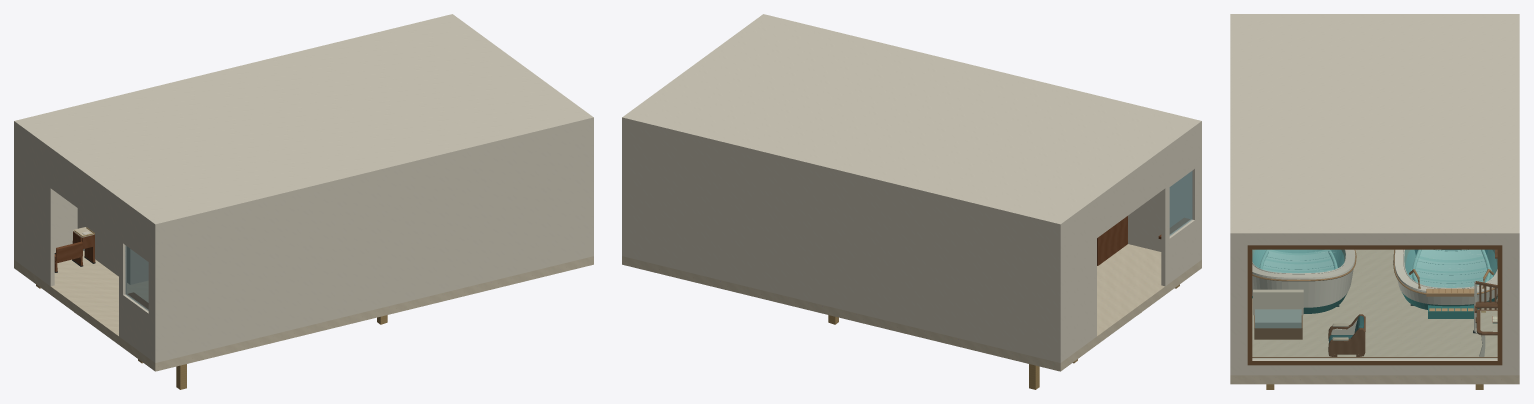
The model's file is NG530_PanoramicSuite_r001.glb.
3 views of the same model, side by side, from view 1: azimuth 30°, elevation 25°; view 2: azimuth 150°, elevation 25°; view 3: azimuth 270°, elevation 25° (orthographic). The views are drawn at different scales.
Parts seen in each view (by area): view 1: NG530_RuntimeBatch_001, NG530_RoomFloor, NG530_ScreenedStreetGlass, NG530_RuntimeBatch_013; view 2: NG530_RuntimeBatch_001, NG530_RoomFloor, NG530_ScreenedStreetGlass, NG530_RuntimeBatch_002; view 3: NG530_RuntimeBatch_001, NGP_530_PrivateViewPane, NG530_RoomFloor, NG530_ReservedRestSupport_02__Hollow continuous basin shell , NG530_ReservedRestSupport_01__WaterSurface_VisualOnly, NG530_ReservedRestSupport_01__Contoured broad immersed rest , NG530_ReservedRestSupport_01__Hollow continuous basin shell , NG530_ReservedRestSupport_02__WaterSurface_VisualOnly, NGP_530_Frame_Sill, NG530_ReservedRestSupport_02__Contoured broad immersed rest , NGP_530_Frame_Head, NGP_530_ViewSeat_Back (+10 smaller).
Part boxes in pixels (<box>): NG530_RuntimeBatch_001: <box>14,14,593,362</box>; NG530_RoomFloor: <box>14,250,593,371</box>; NG530_ScreenedStreetGlass: <box>125,245,148,310</box>; NG530_RuntimeBatch_013: <box>54,231,95,271</box>; NG530_RuntimeBatch_001: <box>622,14,1201,362</box>; NG530_RoomFloor: <box>622,244,1201,371</box>; NG530_ScreenedStreetGlass: <box>1169,171,1192,235</box>; NG530_RuntimeBatch_002: <box>1097,216,1190,265</box>; NG530_RuntimeBatch_001: <box>1230,14,1519,375</box>; NGP_530_PrivateViewPane: <box>1252,250,1497,358</box>; NG530_RoomFloor: <box>1230,249,1519,384</box>; NG530_ReservedRestSupport_02__Hollow continuous basin shell : <box>1252,249,1355,313</box>; NG530_ReservedRestSupport_01__WaterSurface_VisualOnly: <box>1406,250,1496,287</box>; NG530_ReservedRestSupport_01__Contoured broad immersed rest : <box>1412,249,1490,287</box>; NG530_ReservedRestSupport_01__Hollow continuous basin shell : <box>1394,249,1497,309</box>; NG530_ReservedRestSupport_02__WaterSurface_VisualOnly: <box>1253,250,1343,272</box>; NGP_530_Frame_Sill: <box>1247,357,1502,365</box>; NG530_ReservedRestSupport_02__Contoured broad immersed rest : <box>1263,249,1334,273</box>; NGP_530_Frame_Head: <box>1247,245,1502,249</box>; NGP_530_ViewSeat_Back: <box>1253,289,1303,315</box>.
Size of the model in its own units: 12.9 by 5.31 by 7.2.
Materials: 83 (49 with a texture image).
